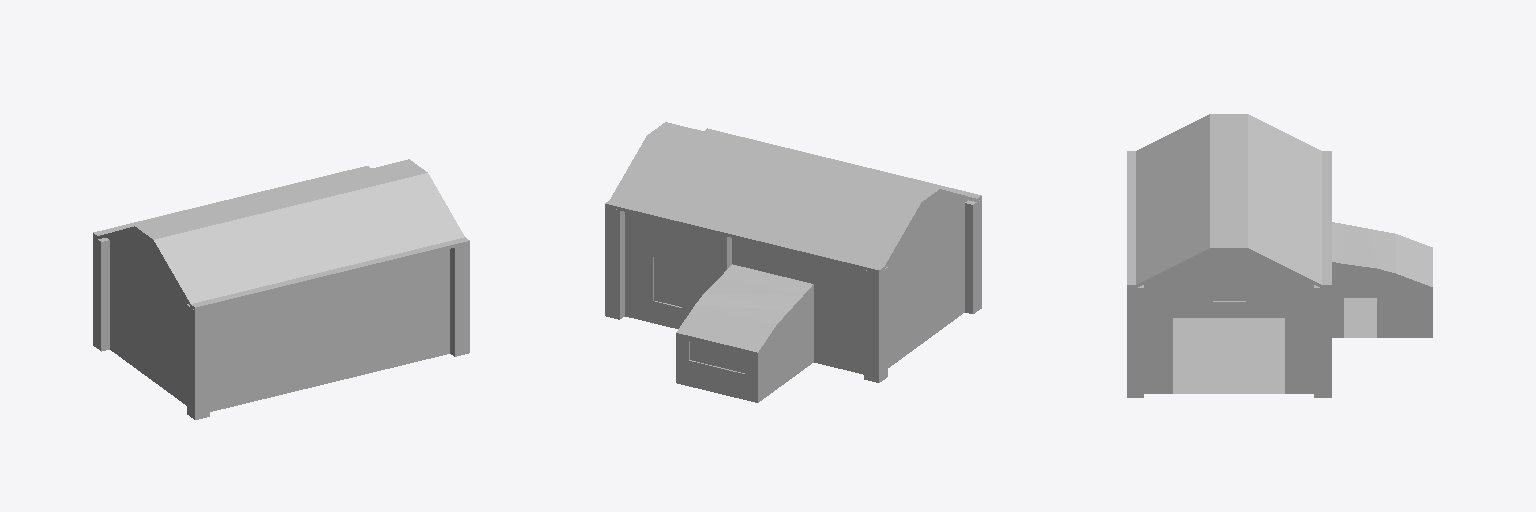
The model's file is Home.obj.
3 views of the same model, side by side, from view 1: azimuth 30°, elevation 25°; view 2: azimuth 150°, elevation 25°; view 3: azimuth 270°, elevation 25° (orthographic).
Visible parts, largest first — view 1: Farm_House_Cube_FarmUV_0; view 2: Farm_House_Cube_FarmUV_0; view 3: Farm_House_Cube_FarmUV_0.
Part boxes in pixels (x1,y1,x2,y2): Farm_House_Cube_FarmUV_0: (93,159,469,419); Farm_House_Cube_FarmUV_0: (605,122,981,402); Farm_House_Cube_FarmUV_0: (1127,114,1432,397).
Bounding box in the file's own units: 56.73 × 29.65 × 54.87.